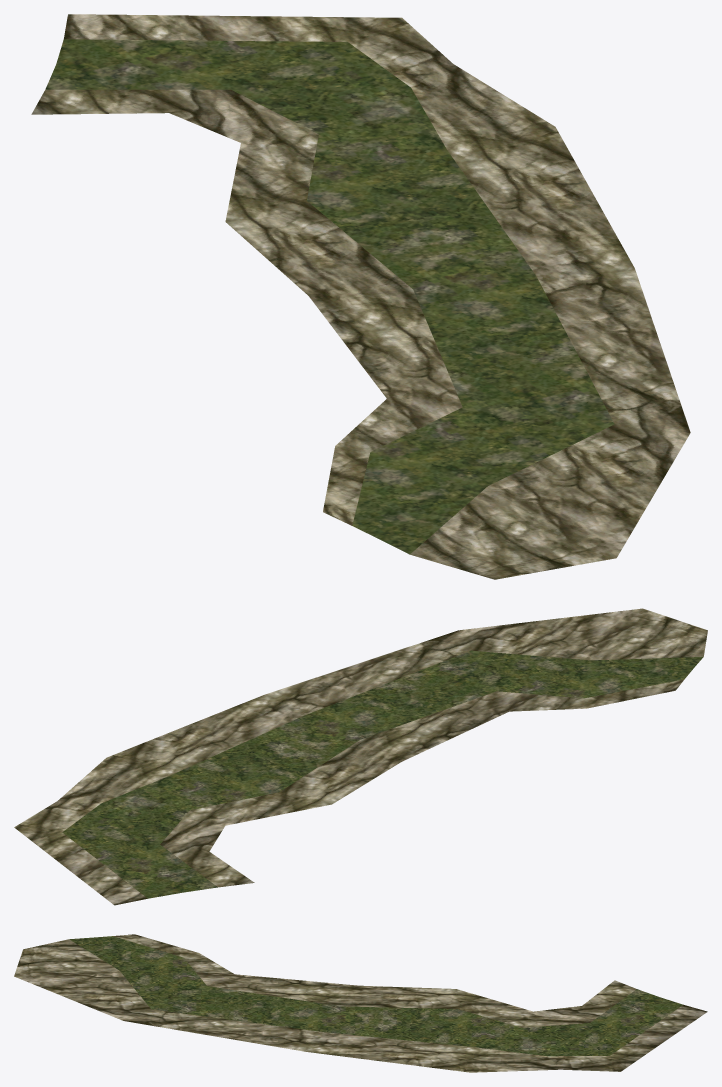
File: CB_NEWPLAYSURFACE_CB_PLAYSURFACE29.fbx
3 views of the same model, one above another, from view 1: azimuth 30°, elevation 25°; view 2: azimuth 150°, elevation 25°; view 3: azimuth 270°, elevation 25° (orthographic). The views are drawn at different scales.
Parts seen in each view (by area): view 1: CB_NEWPLAYSURFACE_CB_PLAYSURFACE29; view 2: CB_NEWPLAYSURFACE_CB_PLAYSURFACE29; view 3: CB_NEWPLAYSURFACE_CB_PLAYSURFACE29.
Part boxes in pixels (bbox=[...]): CB_NEWPLAYSURFACE_CB_PLAYSURFACE29: bbox=[31, 14, 690, 579]; CB_NEWPLAYSURFACE_CB_PLAYSURFACE29: bbox=[14, 608, 707, 905]; CB_NEWPLAYSURFACE_CB_PLAYSURFACE29: bbox=[14, 934, 707, 1072].
Size of the model in its own units: 182025 by 399 by 384767.
2 materials, 2 textured.
